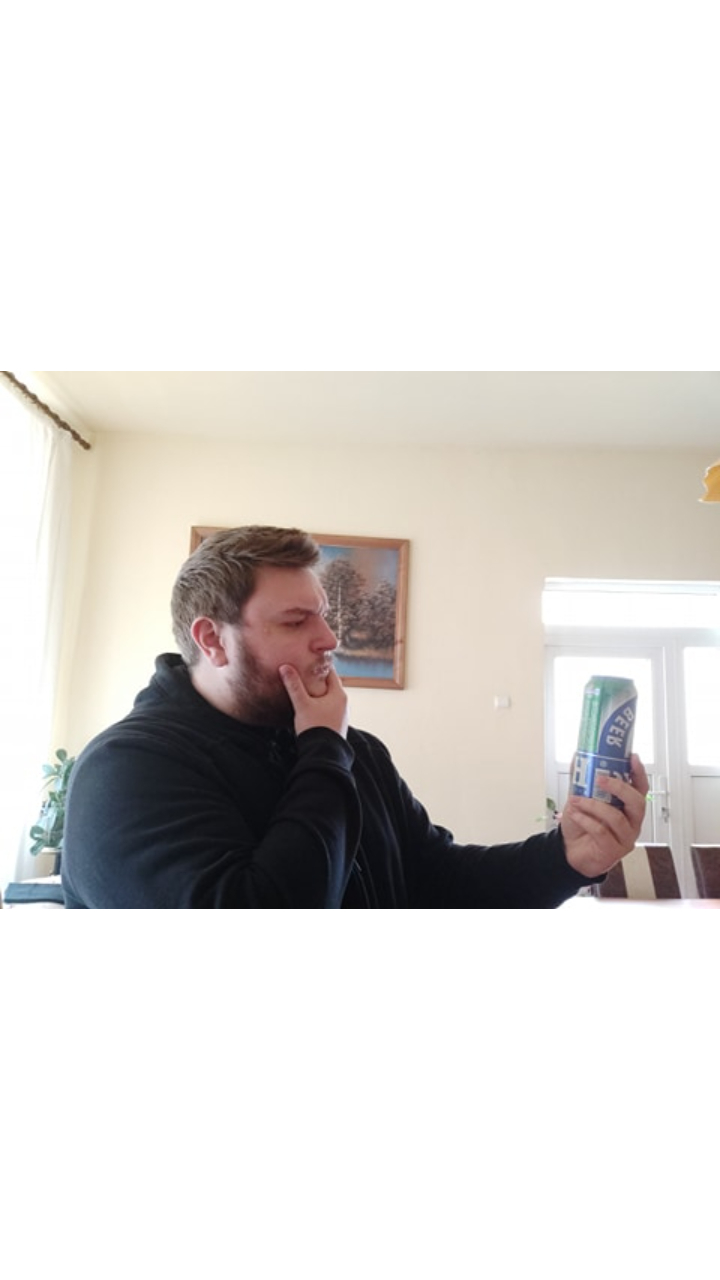Can: (565, 672, 636, 825)
